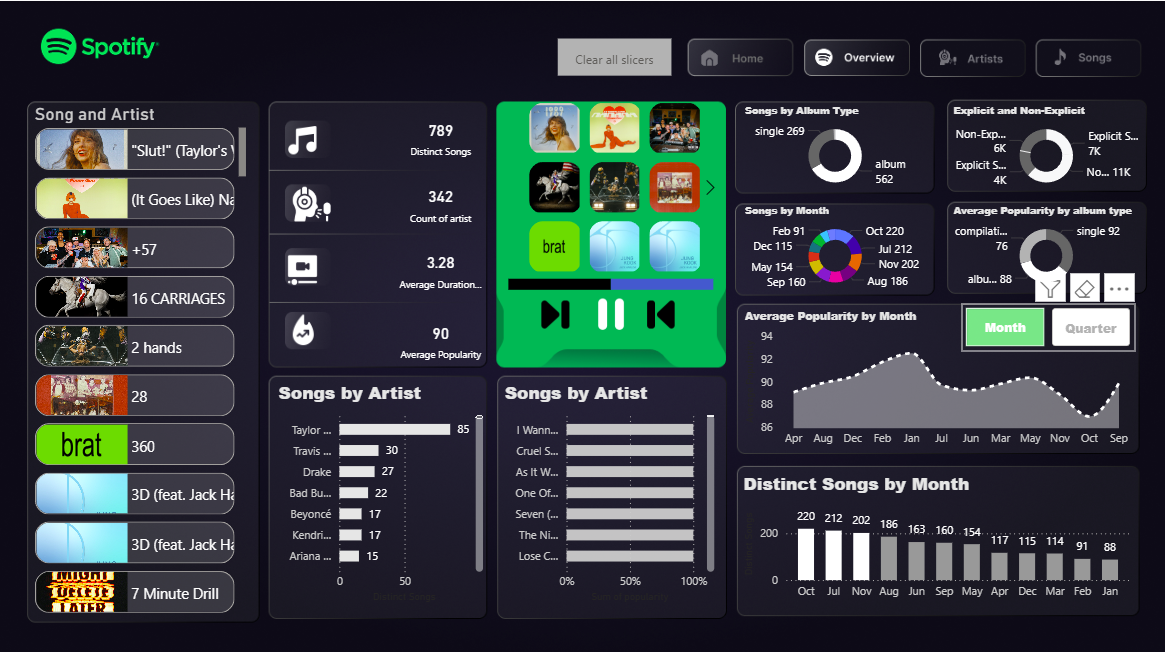

This screenshot's page, from the dashboard's own definition file:
{"tool":"powerbi","page":{"name":"Overview","canvas":[1280,720],"ordinal":1},"visuals":[{"type":"hundredPercentStackedBarChart","title":"Songs by Artist","fields":{"Category":["Top-50-world.song"],"Y":["Sum(Top-50-world.popularity)"]},"box":[550.3,415.8,240.1,249.7],"z":0},{"type":"barChart","title":"Songs by Artist","fields":{"Category":["Top-50-world.artist"],"Y":["Top-50-world.Distinct Songs"]},"box":[301.9,415.8,234.6,249.7],"z":1000},{"type":"areaChart","fields":{"Category":["Top-50-world.Month","Top-50-world.Qtr"],"Y":["Top-50-world.Average Popularity"]},"box":[813.3,336,434,162],"z":2000},{"type":"advancedSlicerVisual","fields":{"Values":["Slicer_Option 2.Slicer_Option"]},"box":[1057.1,331.4,190,52.9],"z":3000},{"type":"donutChart","title":"Songs by Album Type","fields":{"Category":["Top-50-world.album_type"],"Y":["Top-50-world.Distinct Songs"]},"box":[813.3,112,208.7,100],"z":4000},{"type":"donutChart","title":"Average Popularity by album type","fields":{"Category":["Top-50-world.album_type"],"Y":["Top-50-world.Average Popularity"]},"box":[1042.7,222,214,100],"z":5000},{"type":"donutChart","title":"Explicit and Non-Explicit","fields":{"Category":["Top-50-world.album_type"],"Y":["Top-50-world.Explicit Songs","Top-50-world.Non-Explicit Songs"]},"box":[1042.7,112,214,100],"z":6000},{"type":"donutChart","title":"Songs by Month","fields":{"Category":["Top-50-world.Month"],"Y":["Top-50-world.Distinct Songs"]},"box":[813.3,222,208.7,100],"z":7000},{"type":"clusteredColumnChart","fields":{"Category":["Top-50-world.Month"],"Y":["Top-50-world.Distinct Songs"]},"box":[813,516,434,150],"z":8000},{"type":"card","fields":{"Values":["Top-50-world.Distinct Songs"]},"box":[433.6,111.4,102.9,76.4],"z":9000},{"type":"card","fields":{"Values":["Count(Top-50-world.artist)"]},"box":[433.6,185,102.9,74.3],"z":10000},{"type":"card","fields":{"Values":["Top-50-world.Average Duration Minutes"]},"box":[433.6,260,102.9,71.4],"z":11000},{"type":"card","fields":{"Values":["Top-50-world.Average Popularity"]},"box":[433.6,331.4,102.9,80.7],"z":12000},{"type":"image","box":[322.5,198.3,41.7,47.5],"z":13000},{"type":"image","box":[322.5,335.8,33.3,49.2],"z":14000},{"type":"image","box":[277.6,276.5,111.8,38.8],"z":15000},{"type":"image","box":[314.7,137.6,37.1,31.2],"z":16000},{"type":"advancedSlicerVisual","title":"Song and Artist","fields":{"Values":["Top-50-world.song"]},"box":[34.3,112.5,242.9,565.4],"z":17000},{"type":"advancedSlicerVisual","title":"Song and Artist","fields":{"Values":["Top-50-world.song"]},"box":[555.3,105.3,240.6,198.2],"z":18000},{"type":"hundredPercentStackedBarChart","fields":{"Y":["Top-50-world.Average Popularity","Avg(Top-50-world.popularity)"]},"box":[555,276.4,235,63.6],"z":19000},{"type":"image","box":[637.1,327.1,70.6,34.7],"z":20000},{"type":"image","box":[571.4,327.1,80,35],"z":21000},{"type":"image","box":[690,327.1,72.9,35],"z":22000},{"type":"actionButton","box":[750.8,41.4,115.5,40],"z":23000},{"type":"actionButton","box":[877.1,41.4,115.5,40],"z":24000},{"type":"actionButton","box":[1004.8,41.4,115.5,40],"z":25000},{"type":"actionButton","box":[1131.4,41.4,115.5,40],"z":26000},{"type":"actionButton","box":[613.3,41.1,124.4,41.1],"z":27000}]}

Visuals, with their boxes on the page's 1280x720 design canvas (x1, y1, x2, y2). These are canvas units, not pixel positions in the 1165x652 screenshot, which may show the page scaled, cropped or inside an application window:
"Songs by Artist" hundredPercentStackedBarChart: (550,416,790,666)
"Songs by Artist" barChart: (302,416,536,666)
areaChart - Top-50-world.Month x Top-50-world.Qtr: (813,336,1247,498)
advancedSlicerVisual - Slicer_Option 2.Slicer_Option: (1057,331,1247,384)
"Songs by Album Type" donutChart: (813,112,1022,212)
"Average Popularity by album type" donutChart: (1043,222,1257,322)
"Explicit and Non-Explicit" donutChart: (1043,112,1257,212)
"Songs by Month" donutChart: (813,222,1022,322)
clusteredColumnChart - Top-50-world.Month x Top-50-world.Distinct Songs: (813,516,1247,666)
card - Top-50-world.Distinct Songs: (434,111,536,188)
card - Count(Top-50-world.artist): (434,185,536,259)
card - Top-50-world.Average Duration Minutes: (434,260,536,331)
card - Top-50-world.Average Popularity: (434,331,536,412)
image: (322,198,364,246)
image: (322,336,356,385)
image: (278,276,389,315)
image: (315,138,352,169)
"Song and Artist" advancedSlicerVisual: (34,112,277,678)
"Song and Artist" advancedSlicerVisual: (555,105,796,304)
hundredPercentStackedBarChart - Top-50-world.Average Popularity x Avg(Top-50-world.popularity): (555,276,790,340)
image: (637,327,708,362)
image: (571,327,651,362)
image: (690,327,763,362)
actionButton: (751,41,866,81)
actionButton: (877,41,993,81)
actionButton: (1005,41,1120,81)
actionButton: (1131,41,1247,81)
actionButton: (613,41,738,82)
